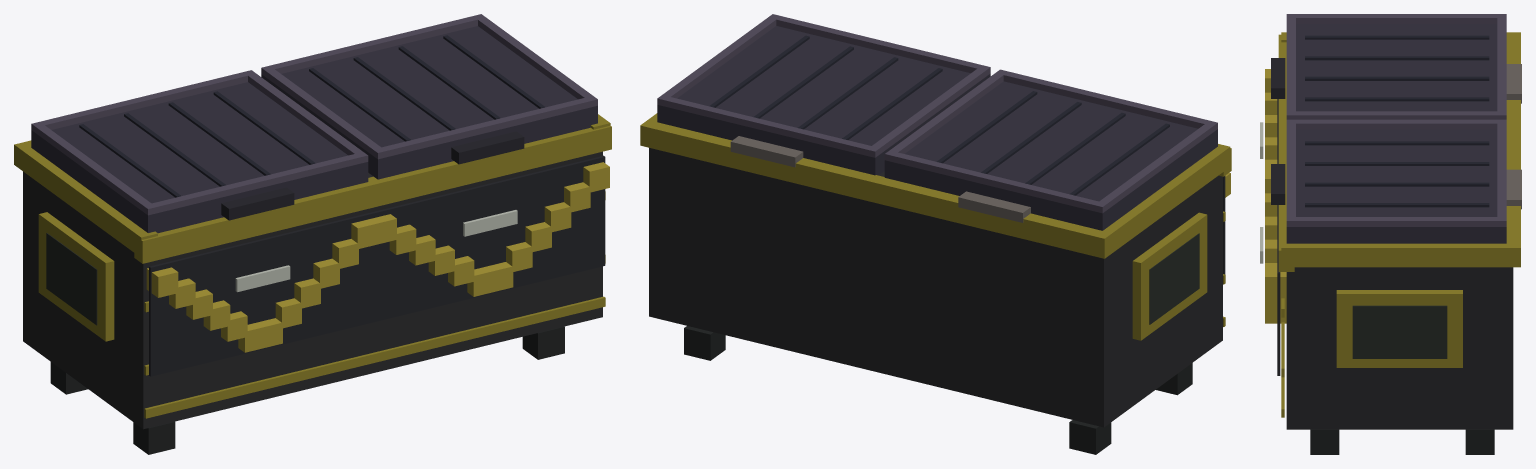
The model's file is CMU3DWeyuDumpster.glb.
3 views of the same model, side by side, from view 1: azimuth 30°, elevation 25°; view 2: azimuth 150°, elevation 25°; view 3: azimuth 270°, elevation 25° (orthographic). The views are drawn at different scales.
Parts seen in each view (by area): view 1: dark closed lid (×2), lower bin shell, dark branding panel, yellow double-V emblem (×21), front rolled rim, lid end border (×4), lid side border (×4), lid recessed rib (×8), front strengthening rib, side lift socket, bin side rim, socket dark recess (+3 smaller); view 2: lower bin shell, dark closed lid (×2), rear top lip, lid end border (×4), lid side border (×4), lid recessed rib (×8), side lift socket, bin side rim, caster wheel (×3), socket dark recess, rear hinge (×2); view 3: dark closed lid (×2), lower bin shell, lid side border (×4), lid recessed rib (×8), bin side rim, socket dark recess, side lift socket, lid end border (×4), rear top lip, yellow double-V emblem (×5), front rolled rim, caster wheel (×2) (+3 smaller).
Boxes of the visible parts, x1,y1,x2,y2 form: dark closed lid (×2): (31, 26, 597, 233); lower bin shell: (23, 151, 602, 429); dark branding panel: (149, 155, 605, 376); yellow double-V emblem (×21): (146, 162, 609, 352); front rolled rim: (134, 125, 611, 263); lid end border (×4): (40, 16, 589, 213); lid side border (×4): (31, 14, 597, 215); lid recessed rib (×8): (79, 35, 544, 197); front strengthening rib: (144, 296, 605, 418); side lift socket: (38, 212, 114, 341); bin side rim: (21, 147, 157, 257); socket dark recess: (46, 233, 97, 325); lower bin shell: (649, 148, 1222, 427); dark closed lid (×2): (657, 26, 1217, 230); rear top lip: (640, 120, 1112, 258); lid end border (×4): (665, 16, 1209, 211); lid side border (×4): (657, 14, 1217, 213); lid recessed rib (×8): (709, 35, 1169, 195); side lift socket: (1132, 212, 1207, 340); bin side rim: (1095, 144, 1230, 252); caster wheel (×3): (684, 326, 1192, 454); socket dark recess: (1149, 233, 1199, 324); rear hinge (×2): (730, 136, 1030, 222); dark closed lid (×2): (1286, 24, 1506, 243); lower bin shell: (1286, 267, 1513, 429); lid side border (×4): (1286, 14, 1506, 226); lid recessed rib (×8): (1305, 35, 1489, 207); bin side rim: (1281, 240, 1507, 267); socket dark recess: (1352, 305, 1447, 358); side lift socket: (1336, 290, 1462, 367); lid end border (×4): (1286, 18, 1506, 216); rear top lip: (1505, 32, 1520, 267); yellow double-V emblem (×5): (1265, 115, 1286, 296); front rolled rim: (1278, 34, 1294, 271); caster wheel (×2): (1310, 429, 1494, 454).
Bounding box in the file's own units: 2 × 1.02 × 0.994.
